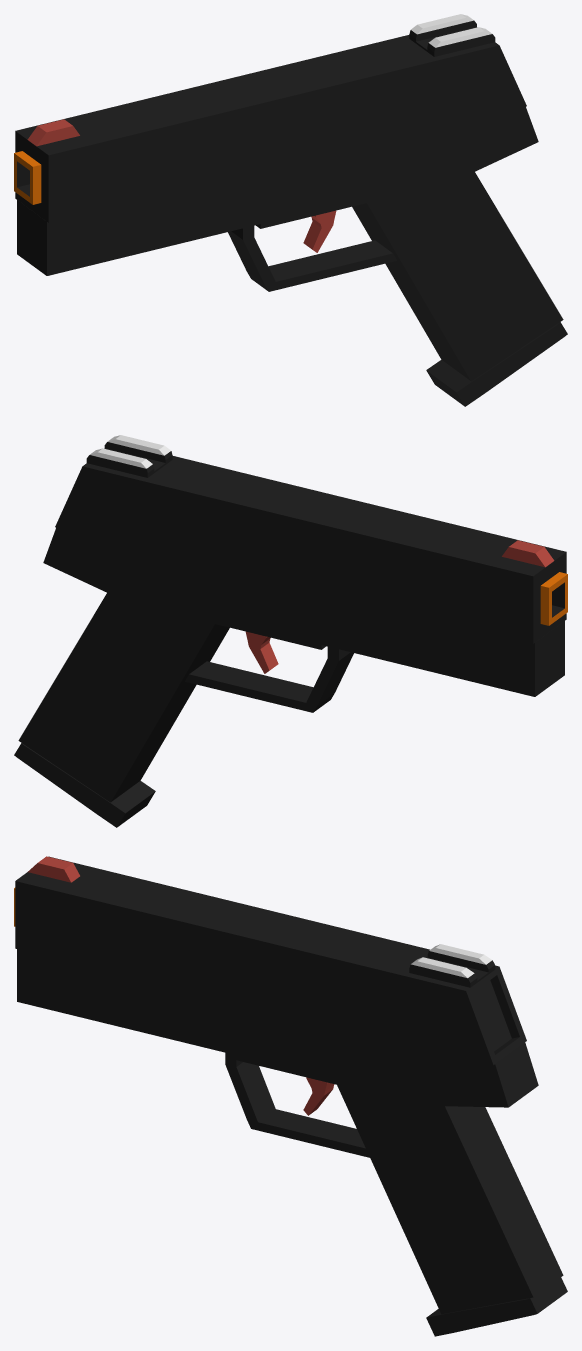
The model's file is Pistol.fbx.
3 renders of one model, top to bottom at view 1: azimuth 30°, elevation 25°; view 2: azimuth 150°, elevation 25°; view 3: azimuth 330°, elevation 25°, orthographic.
Parts seen in each view (by area): view 1: Handle, Top, Magazine; view 2: Handle, Top, Magazine; view 3: Handle, Top, Magazine.
Boxes of the visible parts, x1=… form: Handle: x1=17, y1=106, x2=563, y2=381; Top: x1=14, y1=14, x2=526, y2=222; Magazine: x1=426, y1=322, x2=567, y2=406; Handle: x1=18, y1=527, x2=564, y2=802; Top: x1=55, y1=435, x2=567, y2=643; Magazine: x1=14, y1=743, x2=155, y2=827; Handle: x1=17, y1=949, x2=563, y2=1314; Top: x1=14, y1=856, x2=526, y2=1065; Magazine: x1=426, y1=1277, x2=567, y2=1336.
Size of the model in its own units: 299 by 198 by 32.68.
